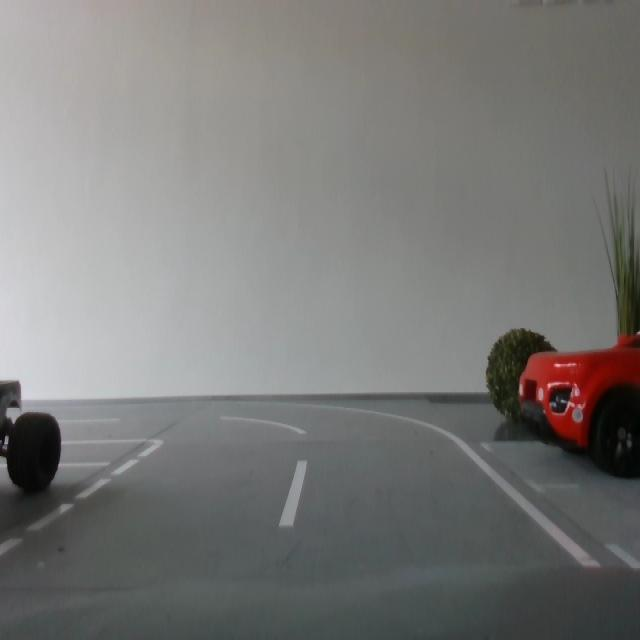car: (518, 331, 640, 479), (1, 374, 67, 507)
potted plant: (589, 166, 640, 397), (486, 326, 561, 428)
